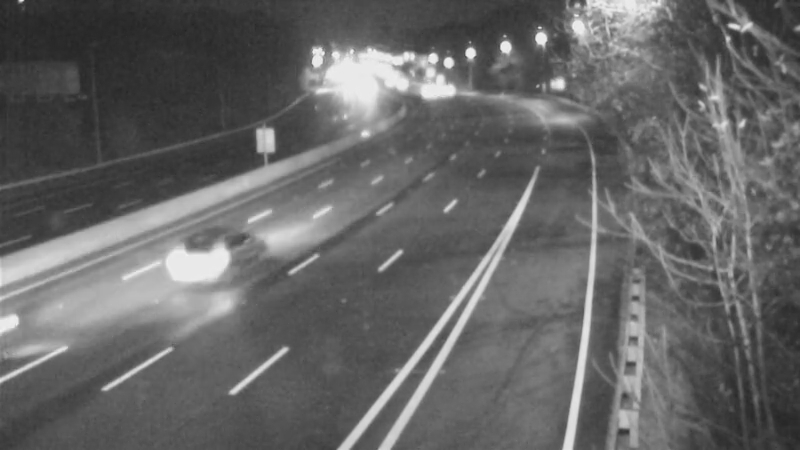vehicle: (1, 266, 90, 376), (163, 219, 243, 299)
